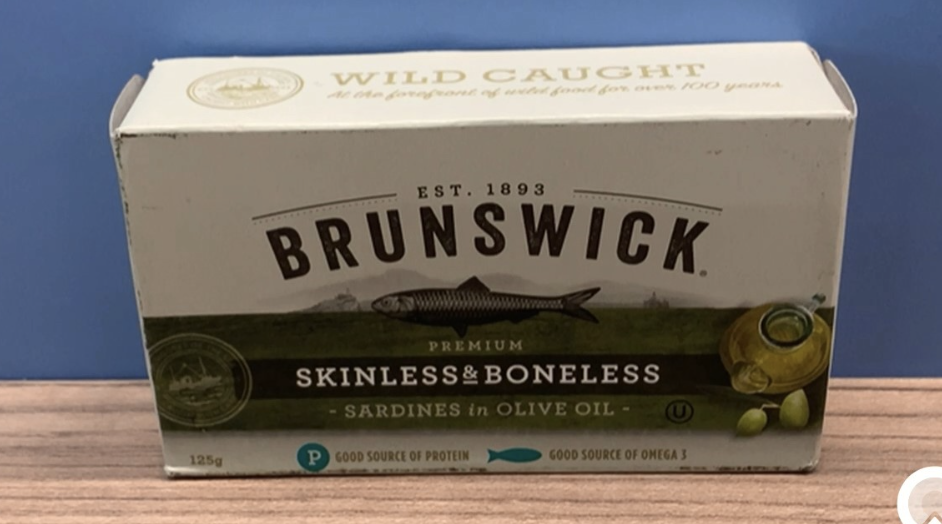sardines_150g: (152, 67, 828, 461)
